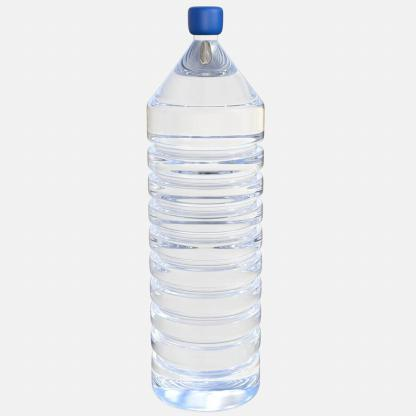Plastic Bottle: (148, 6, 265, 412)
